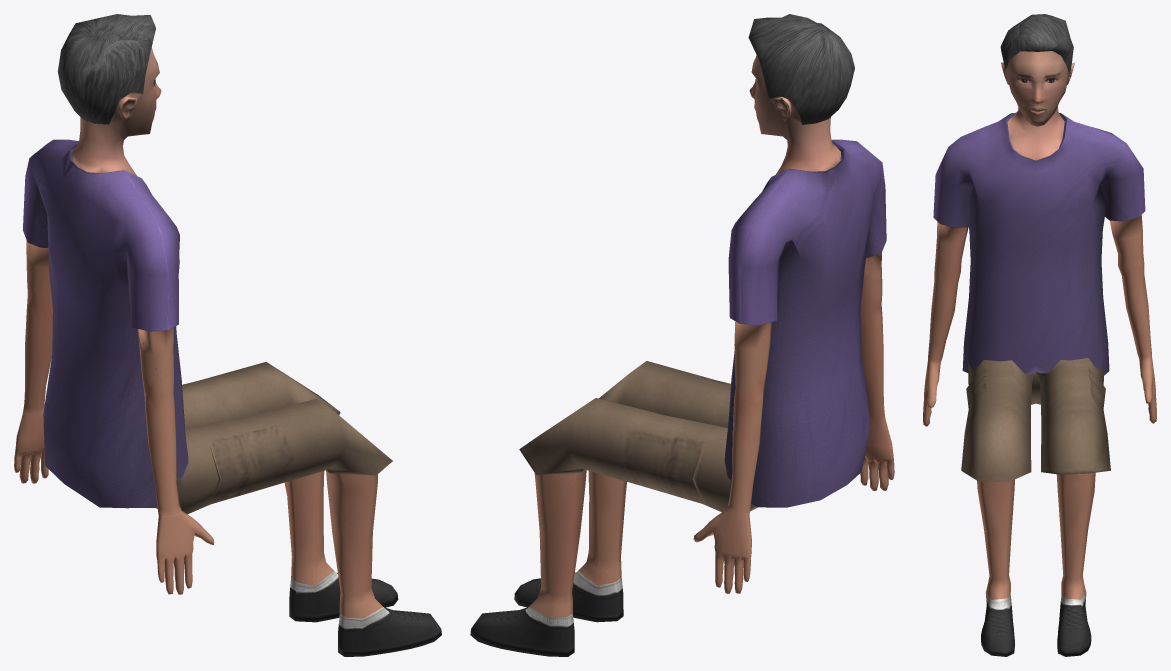
The model's file is seated_down.dae.
3 renders of one model, left to right at view 1: azimuth 30°, elevation 25°; view 2: azimuth 150°, elevation 25°; view 3: azimuth 270°, elevation 25°, orthographic. The views are drawn at different scales.
Visible parts, largest first — view 1: StaticHuman; view 2: StaticHuman; view 3: StaticHuman.
Part boxes in pixels (x1,y1,x2,y2): StaticHuman: (14, 14, 441, 656); StaticHuman: (470, 14, 894, 656); StaticHuman: (923, 14, 1156, 656).
Size of the model in its own units: 0.7218 by 0.5285 by 1.3.
1 material, 1 textured.
